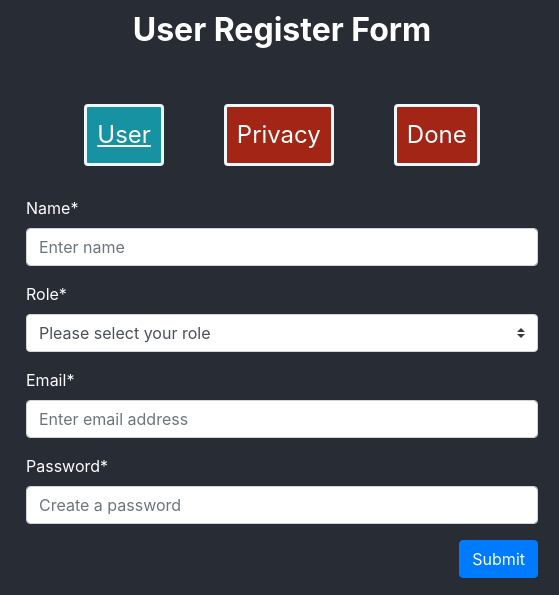
Test case: Renders Form Wizard › Can submit form end to end
Type "test" into the field with id "textbox_name" at (282, 247), box [26,228,538,266]
Select "Software engineer" in the dropdown with id "dropdown_role" at (282, 333), box [26,314,538,352]
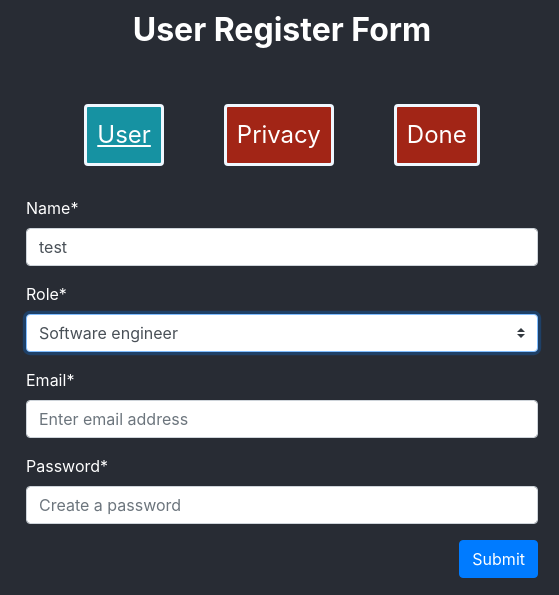
Type "test@gmail.com" into the field with id "textbox_email" at (282, 419), box [26,400,538,438]
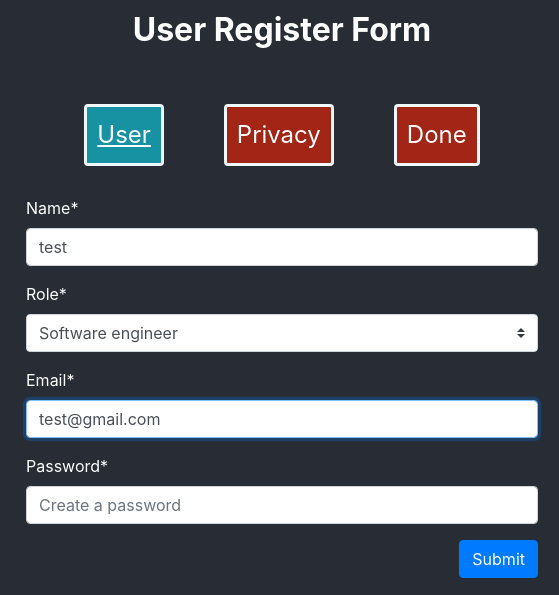
Type "Password123" into the password field with id "textbox_password" at (282, 505), box [26,486,538,524]
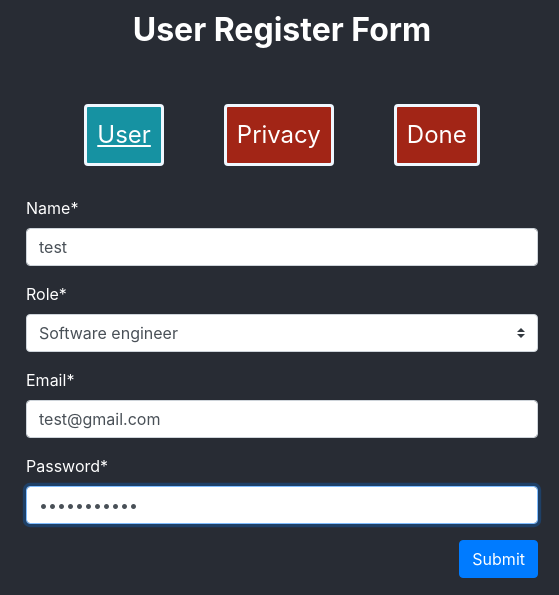
Click the submit button at (499, 559), box [459,540,538,578]
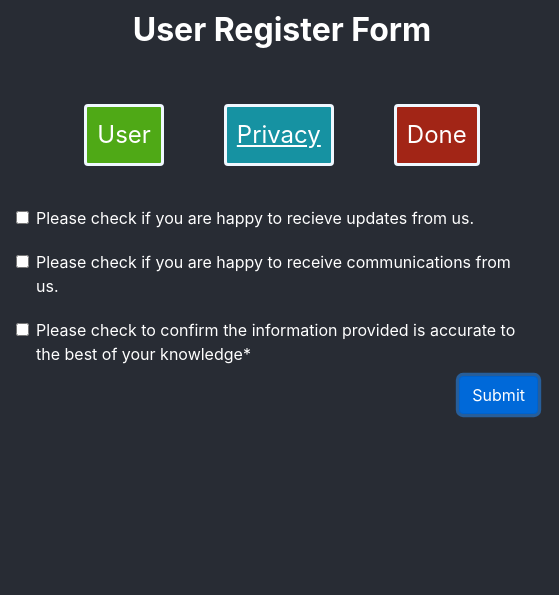
Click the checkbox with id "checkbox_accurate-info-check" at (23, 330), box [16,323,29,336]
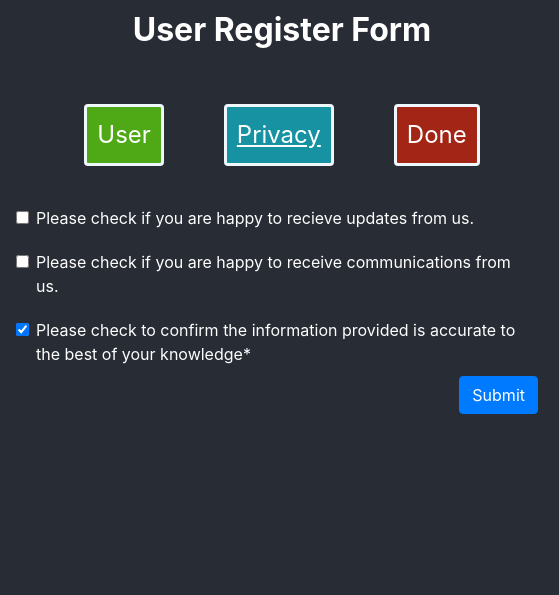
Click the submit button at (499, 395), box [459,376,538,414]
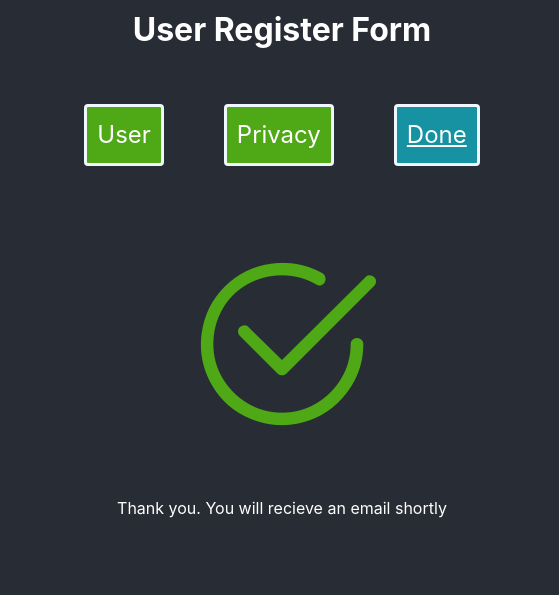
Expected: the text "User" is shown, [84,104,164,166]
Expected: the icon is shown, [182,225,382,467]
